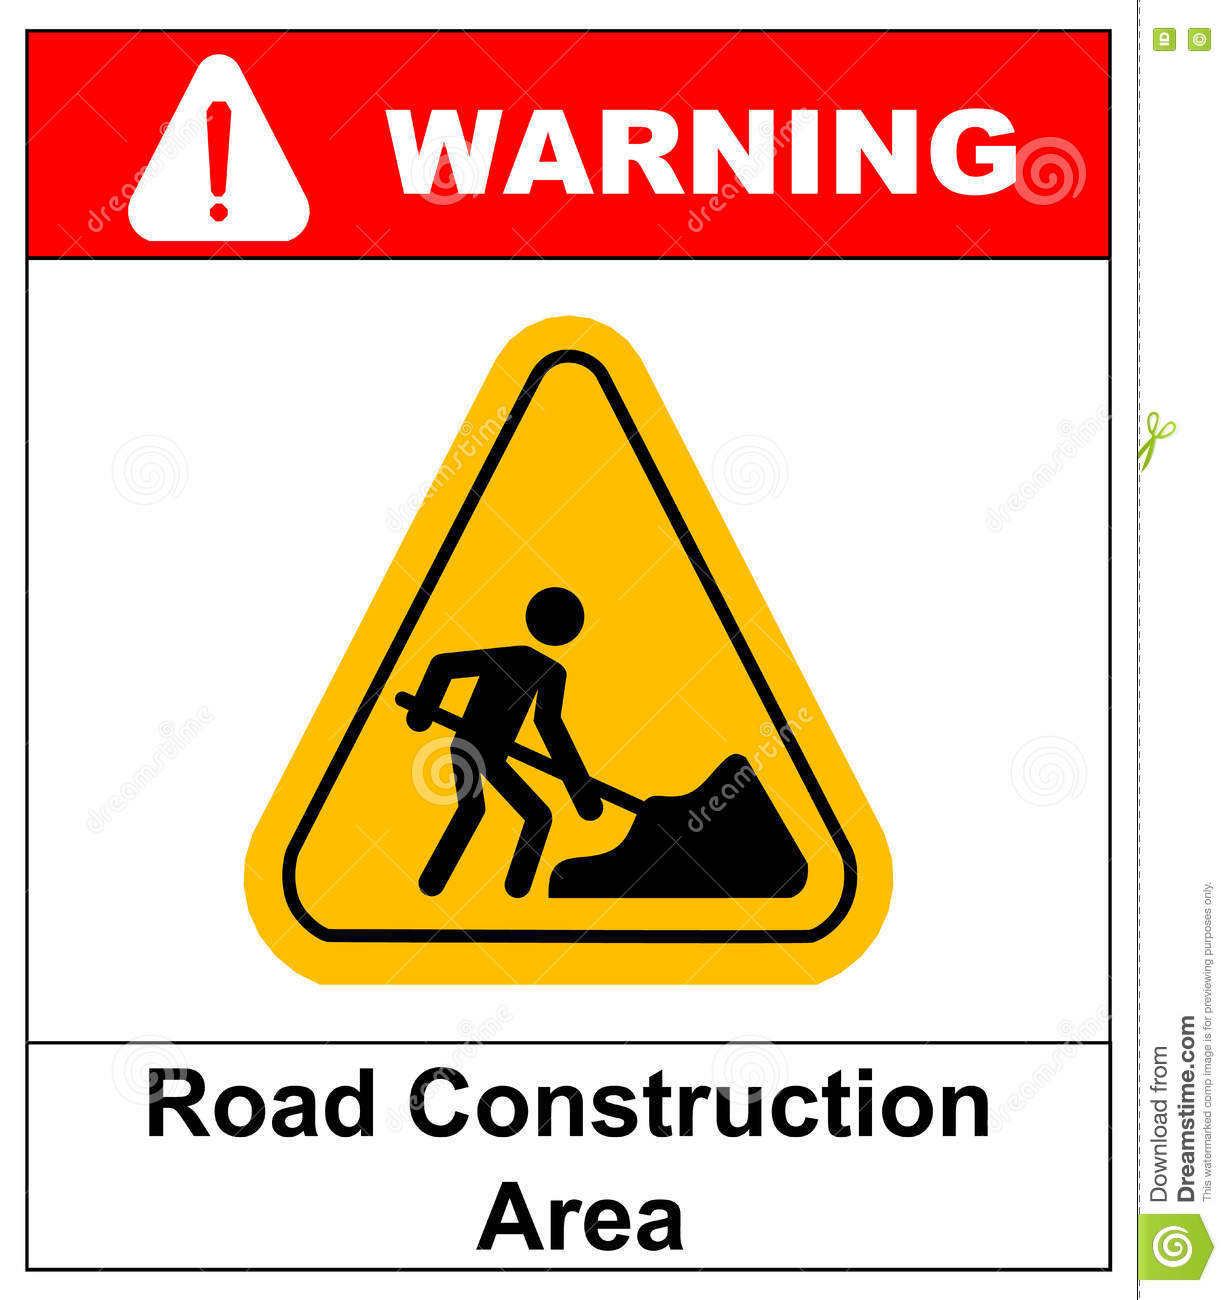caution: (243, 317, 893, 989)
